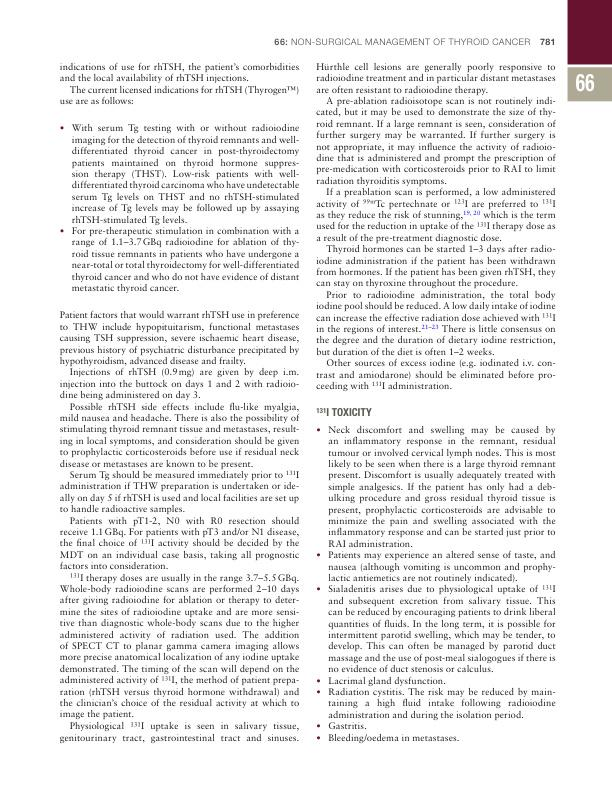header: (272, 36, 532, 47)
list: (314, 424, 558, 745), (57, 122, 300, 294)
sub-section-heading: (315, 406, 373, 418)
text: (57, 309, 301, 744), (315, 61, 557, 392), (58, 61, 300, 106)
